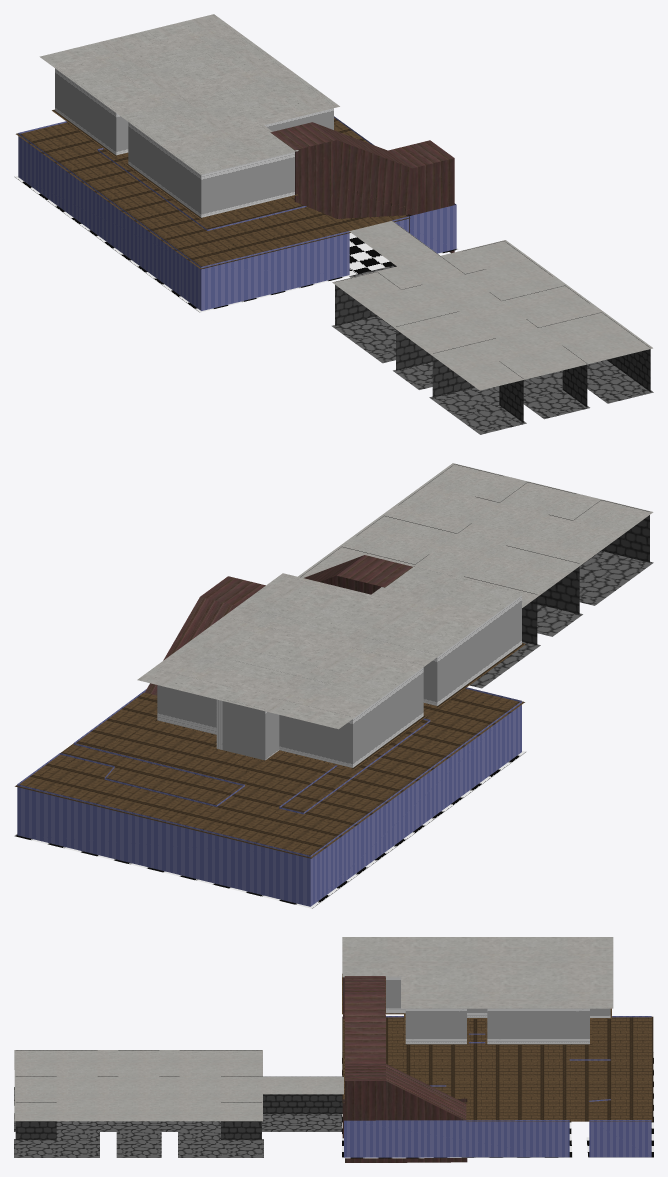
File: lvl.obj
3 views of the same model, one above another, from view 1: azimuth 30°, elevation 25°; view 2: azimuth 150°, elevation 25°; view 3: azimuth 270°, elevation 25° (orthographic). The views are drawn at different scales.
Parts seen in each view (by area): view 1: Basement_roof_Plane.005, lvl1_roof_Mesh, lvl2_walls_Plane.009, lvl2_roof_Plane.002, stare_walls_Plane.006, lvl1_walls, Basement_floor_Plane.007, Basement_walls_Plane, lvl2_floor_Plane.008, lvl1_floor; view 2: lvl2_roof_Plane.002, lvl1_roof_Mesh, lvl2_walls_Plane.009, Basement_roof_Plane.005, lvl1_walls, stare_walls_Plane.006, Basement_floor_Plane.007, Basement_walls_Plane, lvl2_floor_Plane.008, lvl1_floor; view 3: lvl2_roof_Plane.002, Basement_roof_Plane.005, lvl1_roof_Mesh, lvl2_walls_Plane.009, stare_walls_Plane.006, Basement_floor_Plane.007, lvl1_walls, Basement_walls_Plane, lvl2_floor_Plane.008, lvl1_floor.
Boxes of the visible parts, left/top/right/bottom form: Basement_roof_Plane.005: left=332, top=221, right=652, bottom=390; lvl1_roof_Mesh: left=39, top=14, right=339, bottom=174; lvl2_walls_Plane.009: left=18, top=116, right=456, bottom=310; lvl2_roof_Plane.002: left=16, top=118, right=410, bottom=269; stare_walls_Plane.006: left=270, top=122, right=454, bottom=253; lvl1_walls: left=55, top=58, right=333, bottom=217; Basement_floor_Plane.007: left=332, top=265, right=653, bottom=434; Basement_walls_Plane: left=335, top=221, right=650, bottom=422; lvl2_floor_Plane.008: left=14, top=176, right=458, bottom=312; lvl1_floor: left=52, top=109, right=298, bottom=219; lvl2_roof_Plane.002: left=15, top=688, right=524, bottom=858; lvl1_roof_Mesh: left=137, top=565, right=524, bottom=729; lvl2_walls_Plane.009: left=17, top=687, right=521, bottom=906; Basement_roof_Plane.005: left=298, top=463, right=653, bottom=607; lvl1_walls: left=157, top=568, right=521, bottom=767; stare_walls_Plane.006: left=145, top=555, right=414, bottom=695; Basement_floor_Plane.007: left=469, top=551, right=653, bottom=688; Basement_walls_Plane: left=300, top=464, right=649, bottom=645; lvl2_floor_Plane.008: left=14, top=750, right=526, bottom=908; lvl1_floor: left=154, top=643, right=525, bottom=769; lvl2_roof_Plane.002: left=342, top=1016, right=653, bottom=1121; Basement_roof_Plane.005: left=14, top=1050, right=343, bottom=1121; lvl1_roof_Mesh: left=342, top=937, right=613, bottom=1008; lvl2_walls_Plane.009: left=344, top=1016, right=651, bottom=1157; stare_walls_Plane.006: left=342, top=976, right=467, bottom=1162; Basement_floor_Plane.007: left=14, top=1087, right=341, bottom=1157; lvl1_walls: left=386, top=976, right=610, bottom=1044; Basement_walls_Plane: left=15, top=1050, right=343, bottom=1139; lvl2_floor_Plane.008: left=342, top=1052, right=653, bottom=1158; lvl1_floor: left=342, top=974, right=611, bottom=1044.
Size of the model in its own units: 307 by 163 by 780.
Materials: 10 (10 with a texture image).
